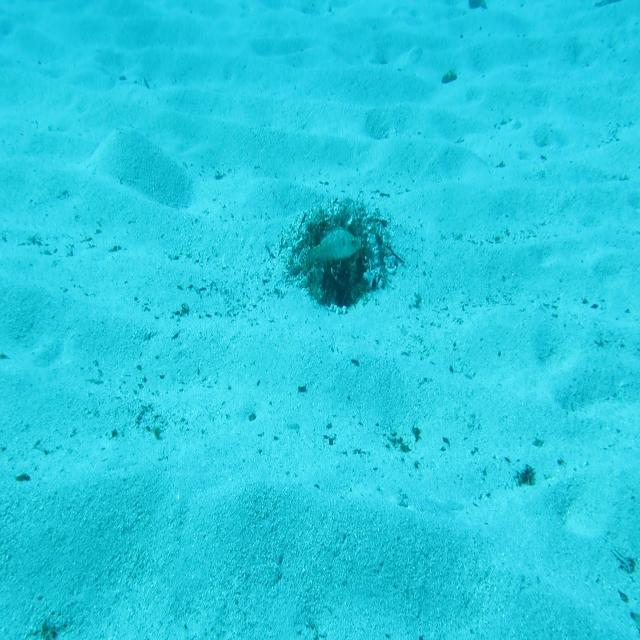MAN: (304, 226, 363, 266)
nest: (289, 200, 393, 315)
vegetation: (516, 465, 535, 486), (442, 69, 456, 84)
